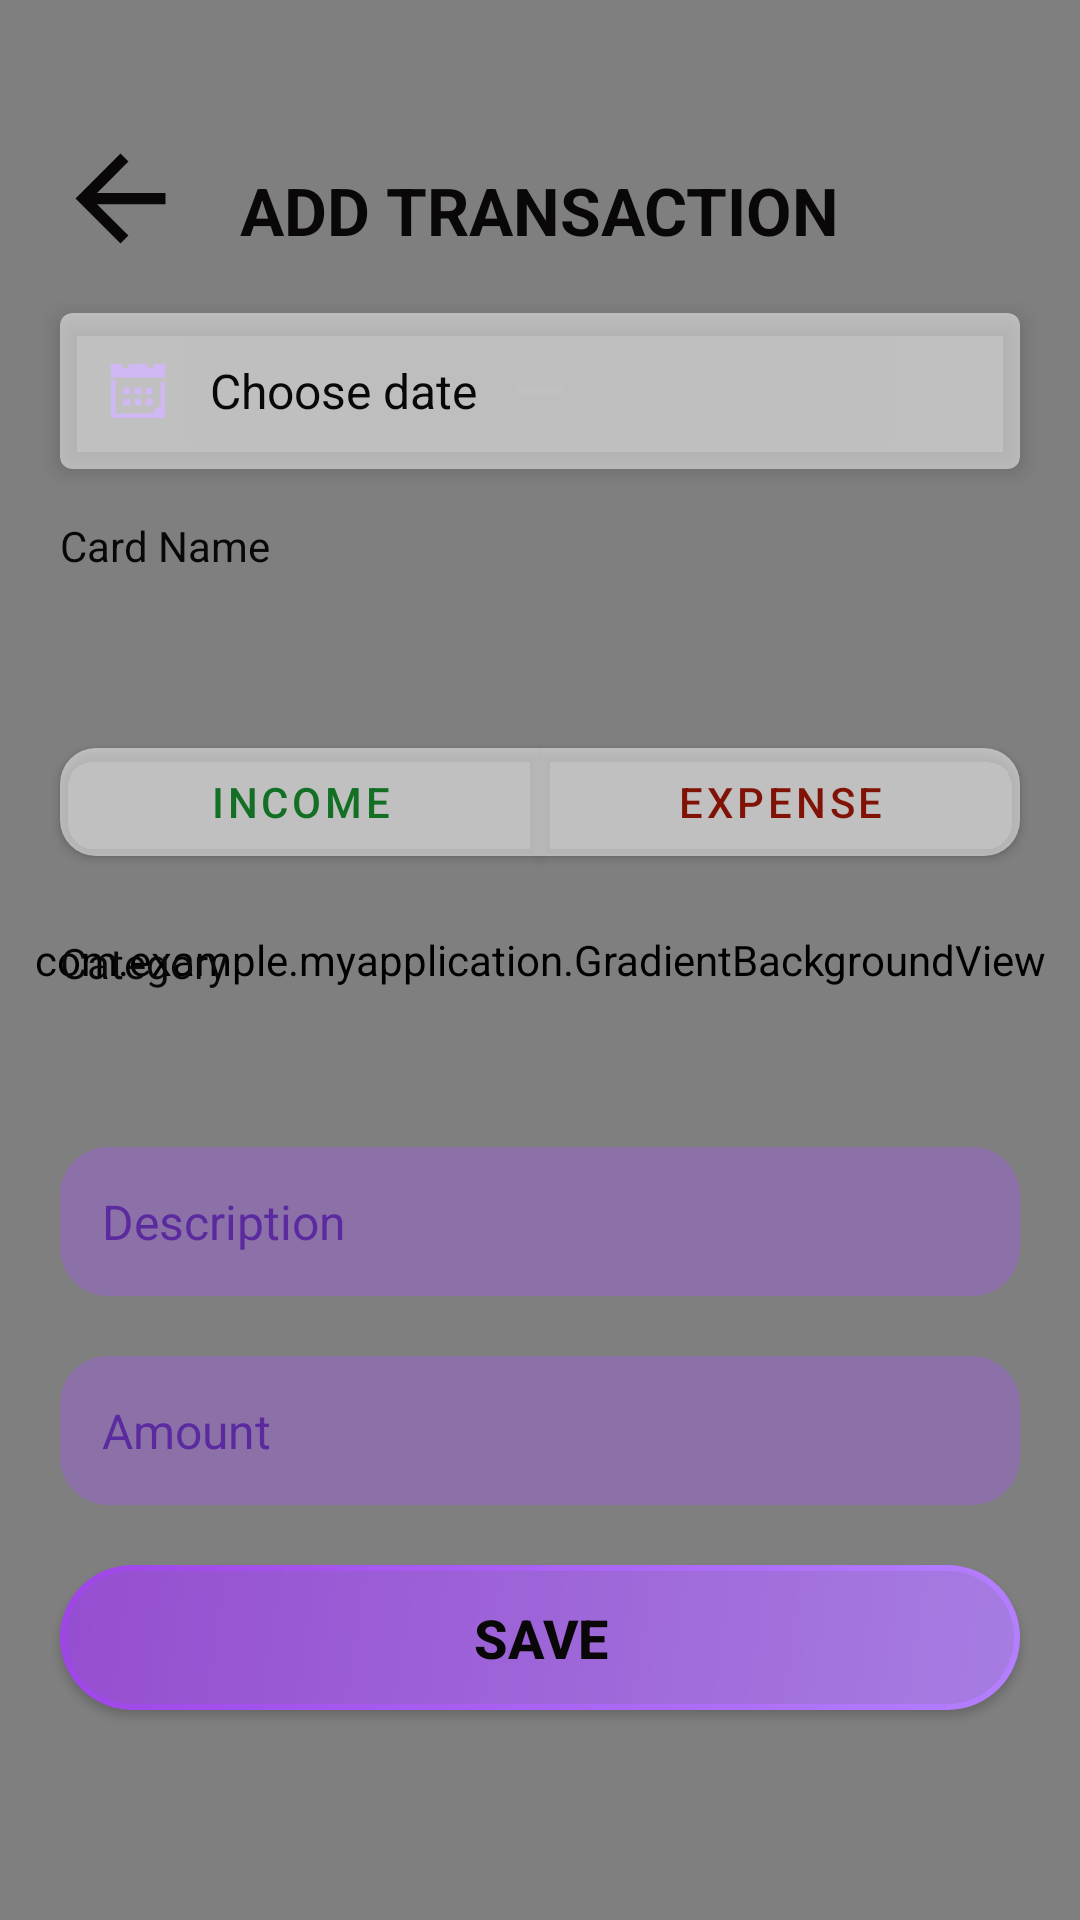

Icon click points for this 1080x1920 phone screenshot, format (x=x, y=y):
calendar: (x=138, y=391)
